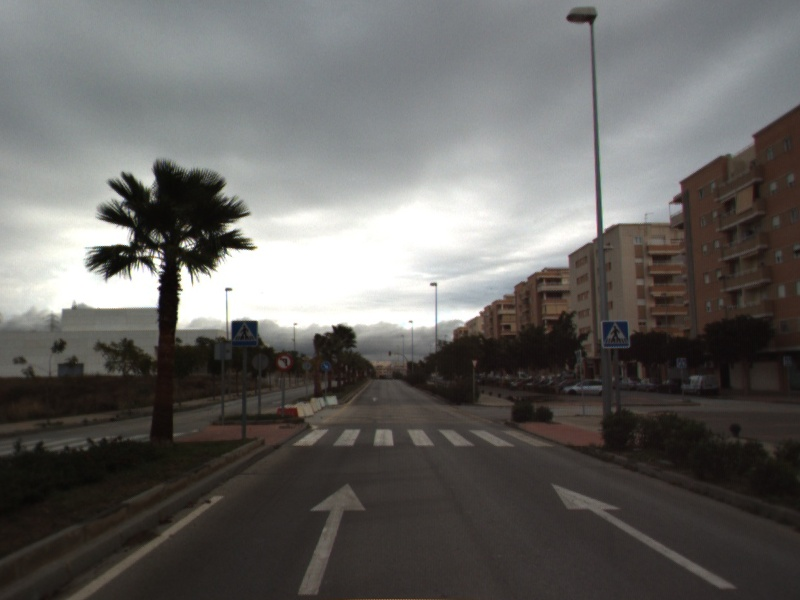STRAIGHT: (549, 481, 740, 591), (295, 480, 369, 596)
